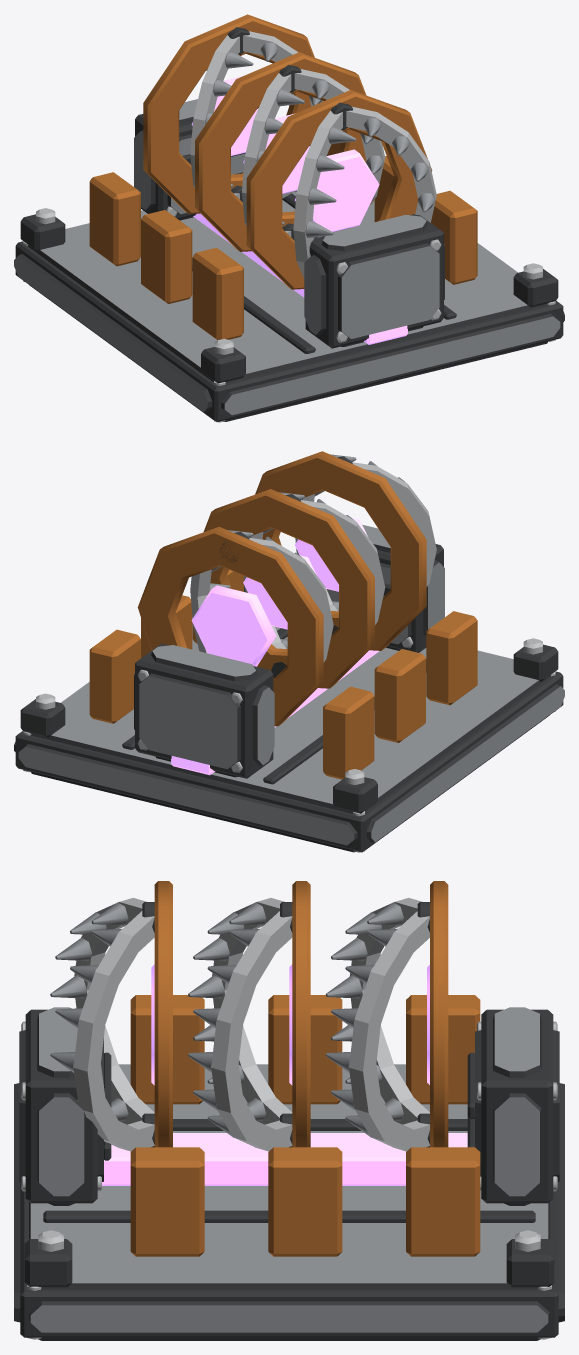
Rendered from R4X_SnareTrapDeployer.fbx.
3 views of the same model, one above another, from view 1: azimuth 30°, elevation 25°; view 2: azimuth 150°, elevation 25°; view 3: azimuth 270°, elevation 25° (orthographic). The views are drawn at different scales.
Visible parts, largest first — view 1: R4X_SnareTrapDeployer_Body, R4X_SnareTrapDeployer_Payload; view 2: R4X_SnareTrapDeployer_Body, R4X_SnareTrapDeployer_Payload; view 3: R4X_SnareTrapDeployer_Body, R4X_SnareTrapDeployer_Payload.
Part boxes in pixels (x1,y1,x2,y2): R4X_SnareTrapDeployer_Body: (14, 99, 564, 422); R4X_SnareTrapDeployer_Payload: (143, 14, 436, 289); R4X_SnareTrapDeployer_Body: (14, 524, 564, 852); R4X_SnareTrapDeployer_Payload: (137, 451, 436, 726); R4X_SnareTrapDeployer_Body: (14, 995, 564, 1340); R4X_SnareTrapDeployer_Payload: (50, 881, 448, 1151).
Bounding box in the file's own units: 0.52 × 0.3492 × 0.52.
